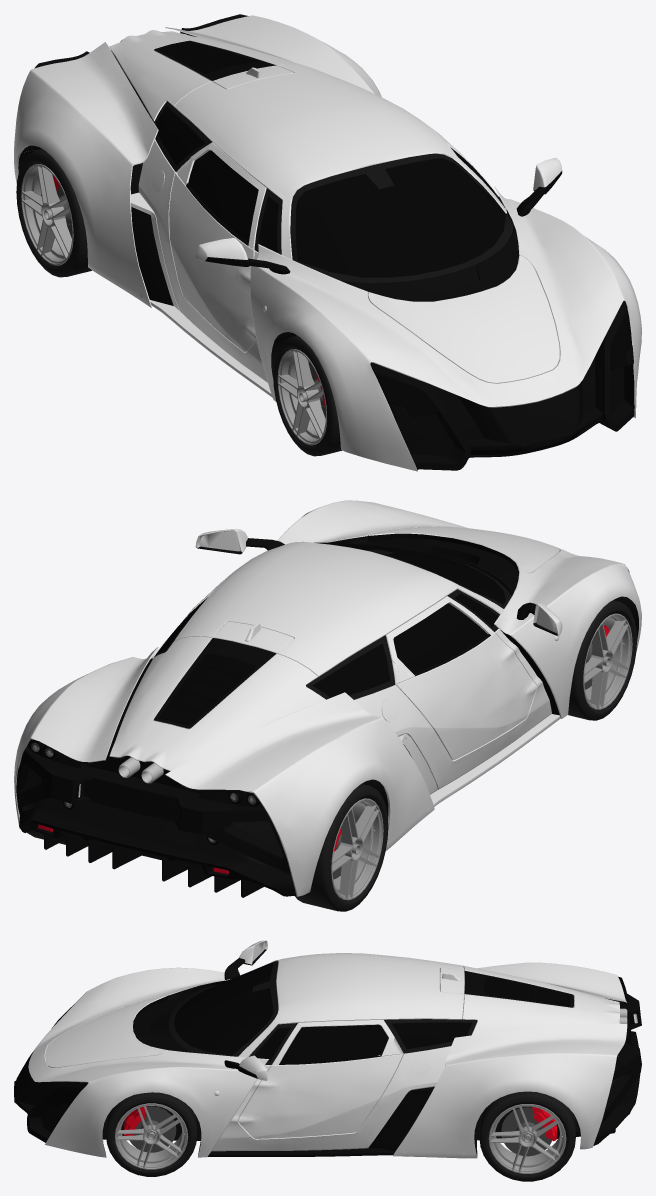
Rendered from Marussia B2.fbx.
3 views of the same model, one above another, from view 1: azimuth 30°, elevation 25°; view 2: azimuth 150°, elevation 25°; view 3: azimuth 270°, elevation 25° (orthographic). The views are drawn at different scales.
Visible parts, largest first — view 1: object.002, object.007, object.010, object.009, object.008, wheel.011, wheel.003, wheel.010, wheel.002; view 2: object.002, object.010, object.007, object.014, wheel.011, wheel.003, object.008, wheel.010, wheel.002, object.009, object.013, object.005; view 3: object.002, object.010, object.007, wheel.012, wheel.013, wheel.006, wheel.004, object.009, object.008, wheel.014, wheel.005, object.006 (+1 smaller).
Boxes of the visible parts, <box> form: object.002: <box>14,15,641,471</box>; object.007: <box>155,106,505,277</box>; object.010: <box>18,14,634,470</box>; object.009: <box>154,101,513,282</box>; object.008: <box>159,42,631,417</box>; wheel.011: <box>21,164,73,265</box>; wheel.003: <box>277,349,326,445</box>; wheel.010: <box>16,149,91,277</box>; wheel.002: <box>273,335,341,456</box>; object.002: <box>14,500,641,896</box>; object.010: <box>16,533,624,897</box>; object.007: <box>155,542,505,697</box>; object.014: <box>22,767,291,875</box>; wheel.011: <box>331,798,383,900</box>; wheel.003: <box>583,613,632,709</box>; object.008: <box>159,569,629,724</box>; wheel.010: <box>295,784,388,911</box>; wheel.002: <box>568,600,636,720</box>; object.009: <box>154,545,511,699</box>; object.013: <box>199,531,557,633</box>; object.005: <box>118,757,163,783</box>; object.002: <box>28,940,637,1158</box>; object.010: <box>14,949,641,1156</box>; object.007: <box>174,963,471,1062</box>; wheel.012: <box>488,1104,566,1173</box>; wheel.013: <box>479,1091,575,1181</box>; wheel.006: <box>115,1103,188,1169</box>; wheel.004: <box>106,1092,197,1176</box>; object.009: <box>169,961,477,1064</box>; object.008: <box>48,976,569,1108</box>; wheel.014: <box>501,1107,551,1156</box>; wheel.005: <box>129,1106,176,1152</box>; object.006: <box>102,1106,580,1156</box>.
Size of the model in its own units: 247 by 135 by 497.
Materials: 18 (1 with a texture image).
